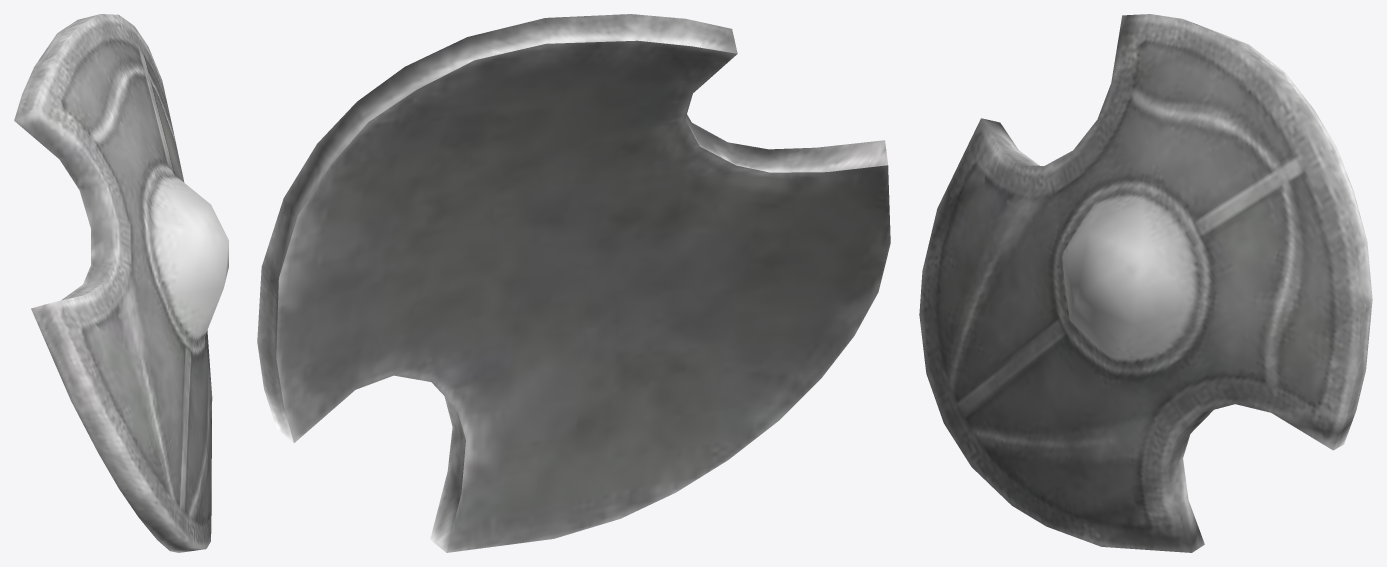
File: rider-shield-slice-ironshields.glb
The picture shows the model from 3 angles, left to right: view 1: azimuth 30°, elevation 25°; view 2: azimuth 150°, elevation 25°; view 3: azimuth 270°, elevation 25°; orthographic projection. The views are drawn at different scales.
Size of the model in its own units: 0.3941 by 0.5405 by 0.469.
Materials: 1 (1 with a texture image).
